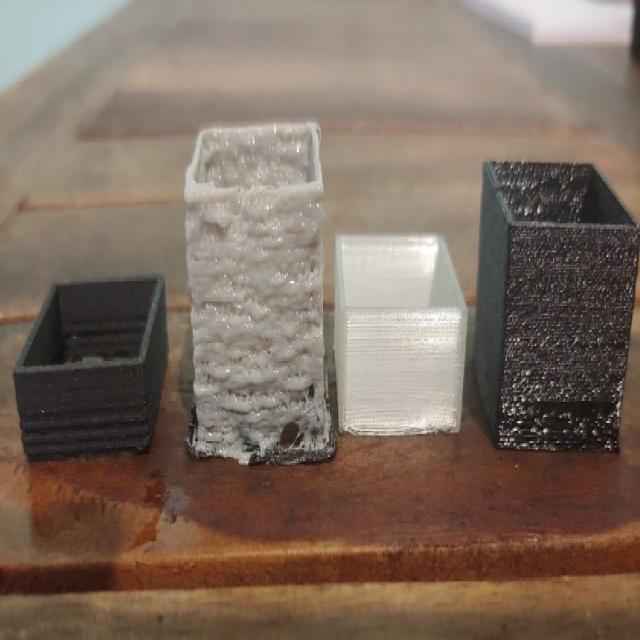blobs: (192, 300, 321, 444), (186, 186, 321, 280), (514, 368, 600, 452)
cracks: (19, 383, 147, 468)
